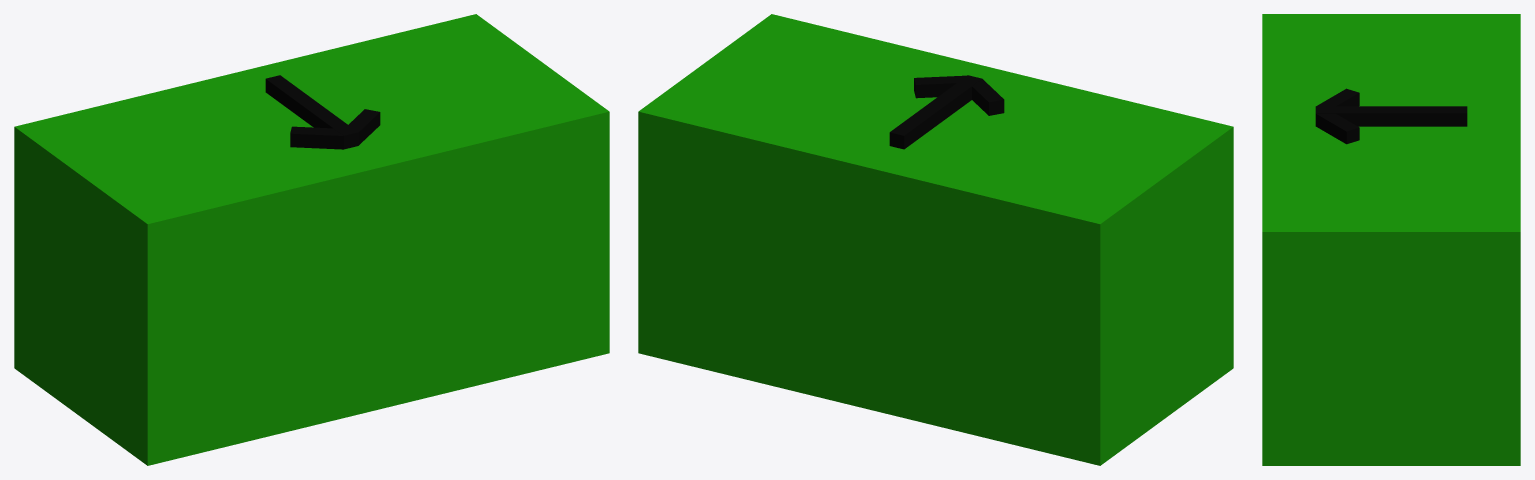
Rendered from green.fbx.
The picture shows the model from 3 angles, left to right: view 1: azimuth 30°, elevation 25°; view 2: azimuth 150°, elevation 25°; view 3: azimuth 270°, elevation 25°; orthographic projection. The views are drawn at different scales.
Parts seen in each view (by area): view 1: Cube, Cube.001; view 2: Cube, Cube.001; view 3: Cube, Cube.001.
Part boxes in pixels (x1,y1,x2,y2): Cube: (14, 14, 609, 465); Cube.001: (265, 75, 380, 149); Cube: (638, 14, 1233, 465); Cube.001: (889, 75, 1004, 149); Cube: (1262, 14, 1520, 465); Cube.001: (1315, 88, 1467, 144).
Bounding box in the file's own units: 400 × 211 × 200.
